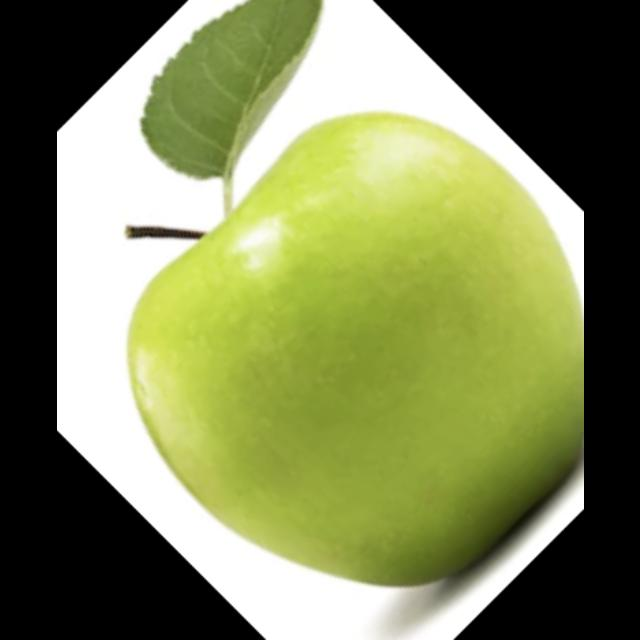Apel Segar: (116, 98, 584, 598)
